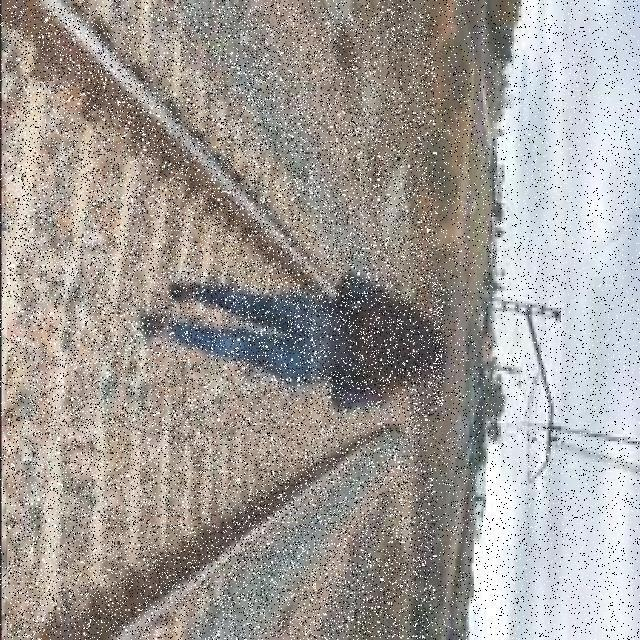danger: (146, 282, 443, 406)
rail: (8, 6, 434, 640)
